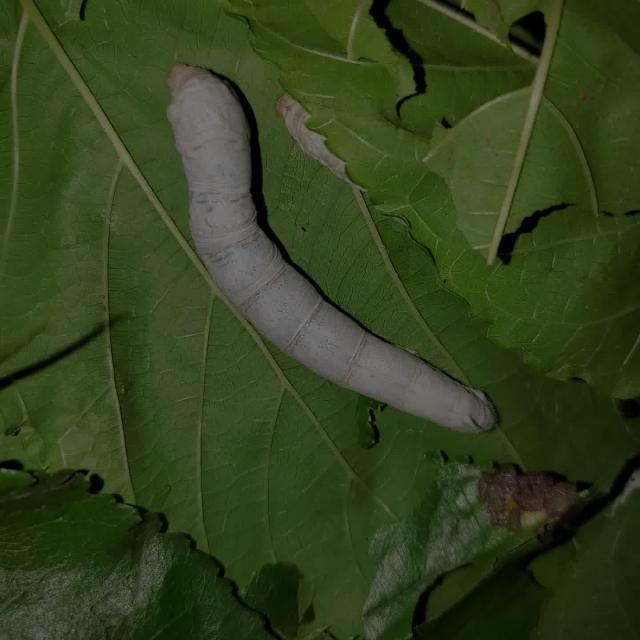Healthy: (157, 53, 498, 451)
